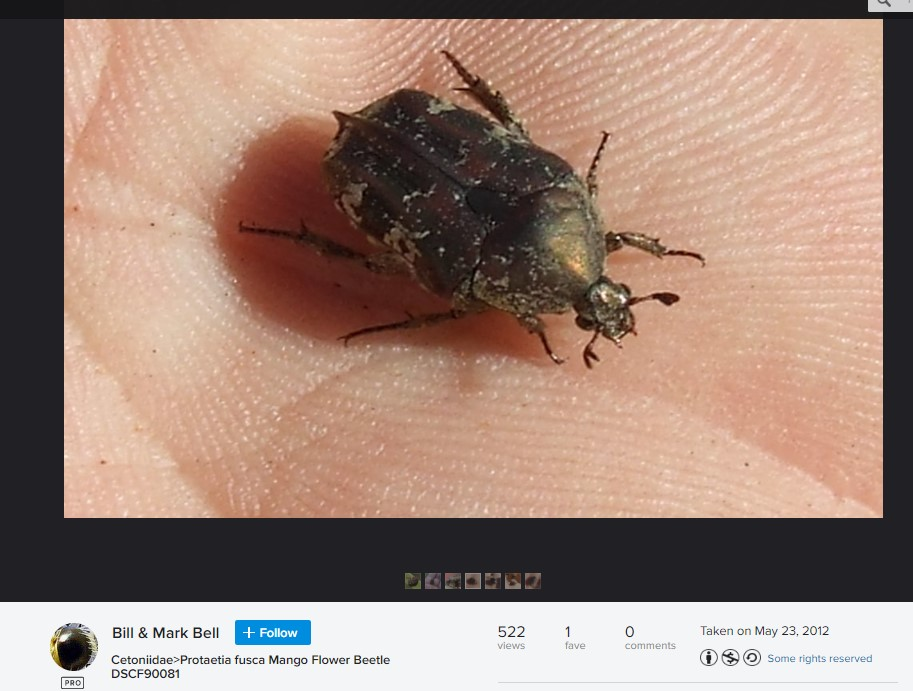Protaetia_fusca: (232, 40, 714, 377)
